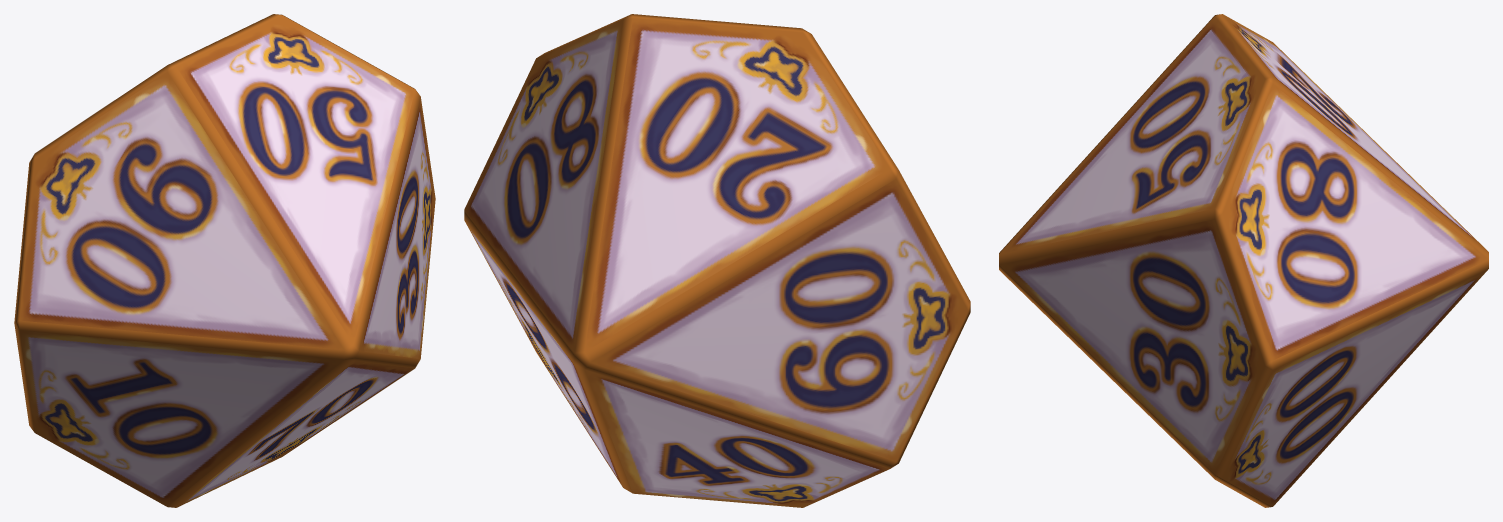
The model's file is d100-urik.glb.
3 renders of one model, left to right at view 1: azimuth 30°, elevation 25°; view 2: azimuth 150°, elevation 25°; view 3: azimuth 270°, elevation 25°, orthographic. The views are drawn at different scales.
Visible parts, largest first — view 1: Mesh_0; view 2: Mesh_0; view 3: Mesh_0.
Part boxes in pixels (left/top/right/bottom): Mesh_0: left=14, top=14, right=435, bottom=507; Mesh_0: left=464, top=14, right=970, bottom=507; Mesh_0: left=999, top=14, right=1488, bottom=507.
Bounding box in the file's own units: 175 × 166 × 172.
1 material, 1 textured.
